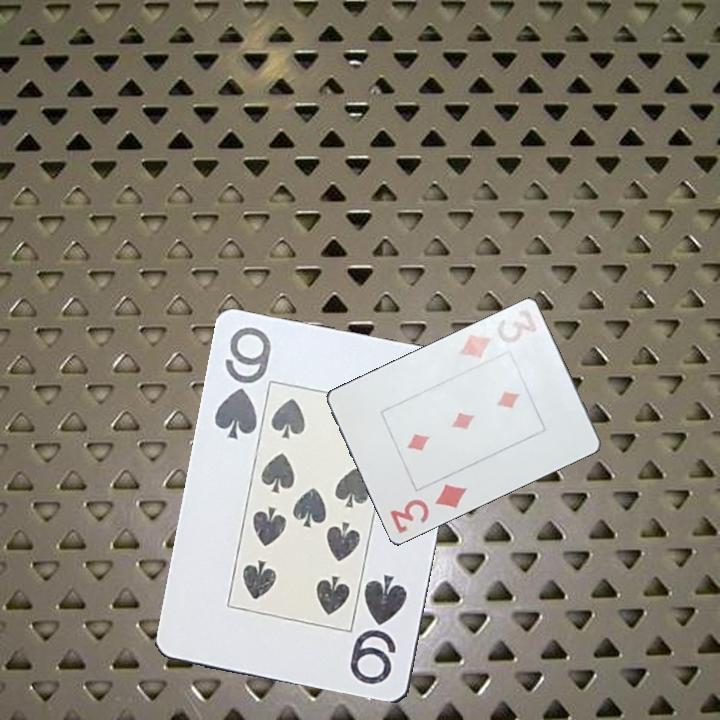3d: (456, 305, 544, 365), (386, 480, 470, 536)
9s: (211, 323, 275, 443), (348, 571, 411, 688)
